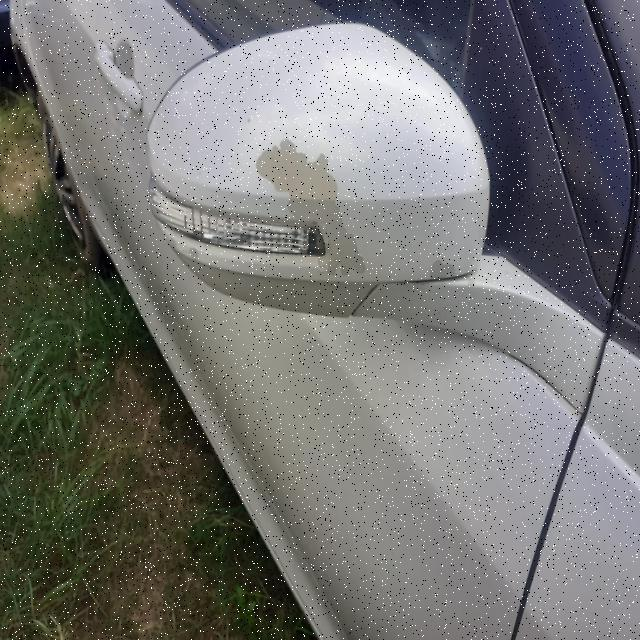Sidemirror-Damage: (145, 12, 502, 348)
